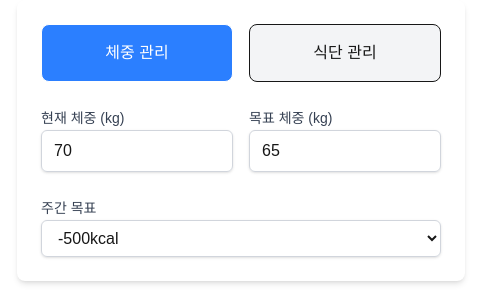
GoalSettingForm › Goal Type Selection › (AC-2) should disable the weight input fields when a goal type other than "Weight Management" is selected
Click the text "식단 관리". click: (345, 53)
box: [249,24,441,82]
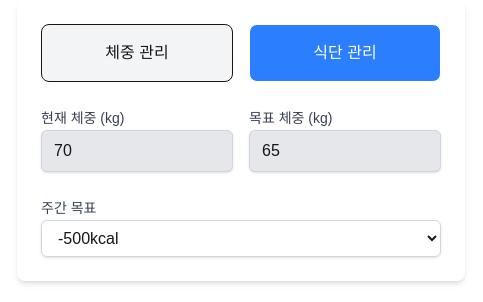
Now the number field labelled "현재 체중 (kg)" is disabled, box [41,130,233,172]
Now the number field labelled "목표 체중 (kg)" is disabled, box [249,130,441,172]
